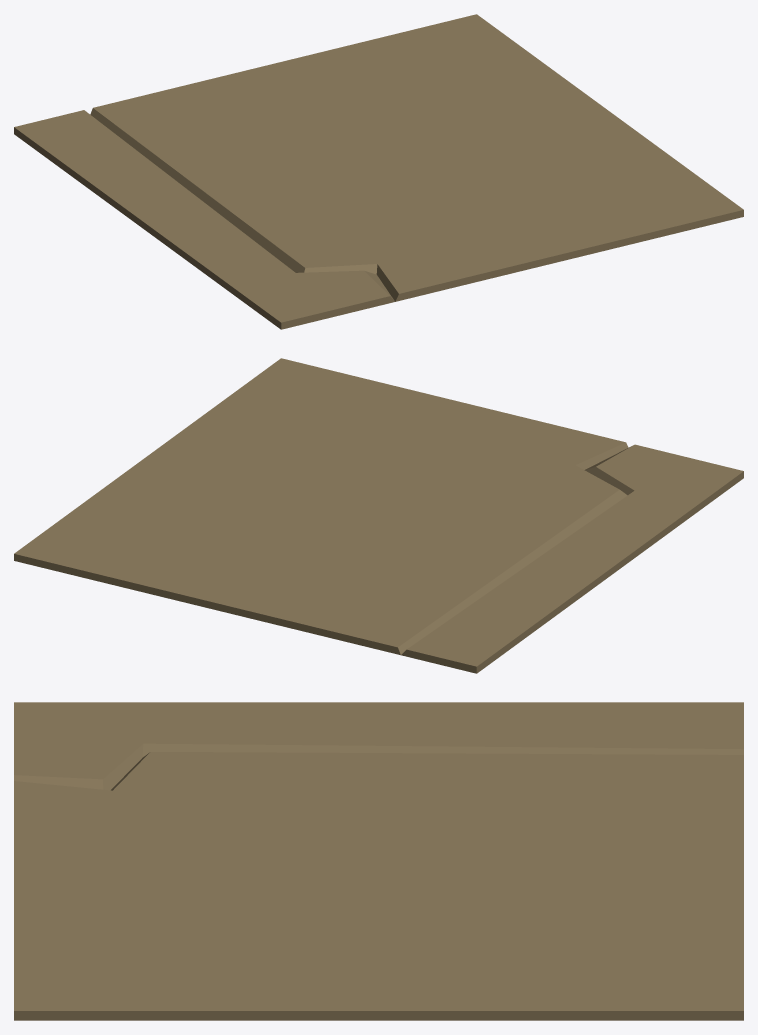
The model's file is Roof_Tile_6_low.fbx.
3 views of the same model, one above another, from view 1: azimuth 30°, elevation 25°; view 2: azimuth 150°, elevation 25°; view 3: azimuth 270°, elevation 25° (orthographic). The views are drawn at different scales.
Visible parts, largest first — view 1: Roof_Tile_6_low; view 2: Roof_Tile_6_low; view 3: Roof_Tile_6_low.
Boxes of the visible parts, left/top/right/bottom form: Roof_Tile_6_low: left=14, top=14, right=743, bottom=329; Roof_Tile_6_low: left=14, top=358, right=743, bottom=673; Roof_Tile_6_low: left=14, top=702, right=743, bottom=1020.
Size of the model in its own units: 1 by 0.0147 by 1.
